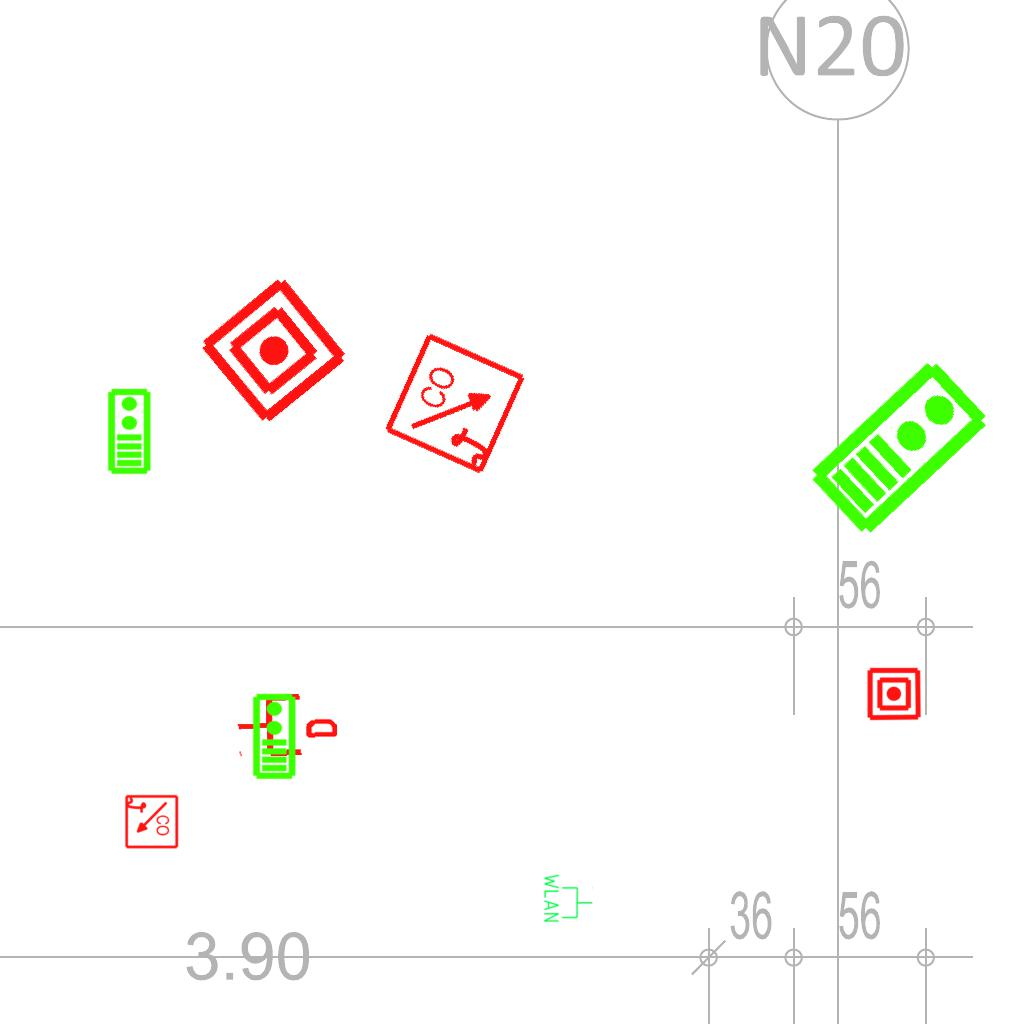Datenanschluss_einfach: (235, 688, 338, 762)
Gegensprechanlage_mit_Video: (801, 351, 996, 541), (105, 387, 152, 475), (250, 692, 297, 780)
NAM-Nichtautomatischer_Melder: (194, 271, 353, 430), (866, 666, 922, 722)
ROA_Rauchmelder_optisch_mit_Signalgeber_(Sockelsirene): (381, 328, 532, 479), (123, 794, 179, 850)
WLAN: (542, 872, 594, 924)
